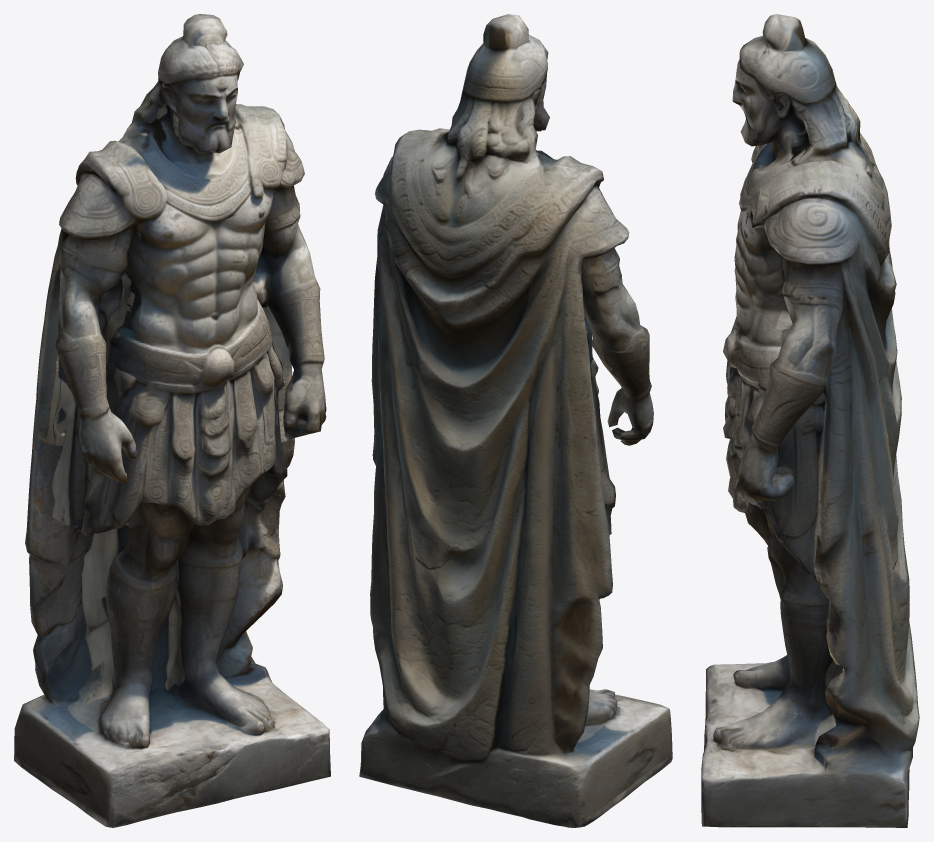
Rendered from worrior statue.glb.
3 renders of one model, left to right at view 1: azimuth 30°, elevation 25°; view 2: azimuth 150°, elevation 25°; view 3: azimuth 270°, elevation 25°, orthographic. The views are drawn at different scales.
Size of the model in its own units: 0.7285 by 2 by 0.5166.
Materials: 1 (1 with a texture image).
